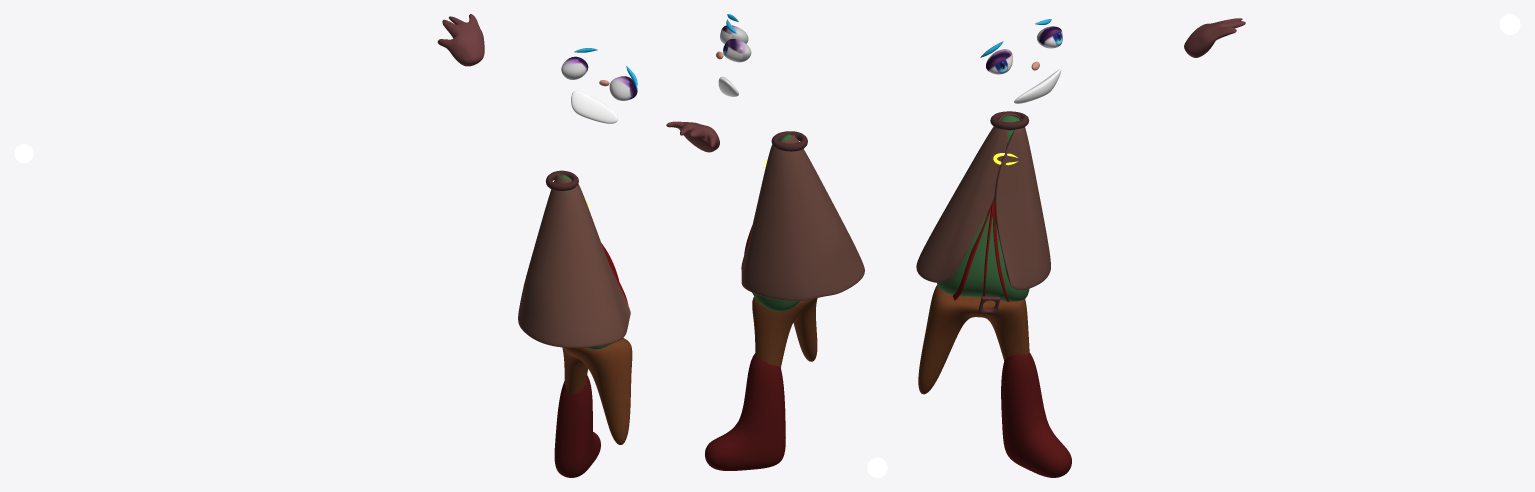
File: constellation.glb
The picture shows the model from 3 angles, left to right: view 1: azimuth 30°, elevation 25°; view 2: azimuth 150°, elevation 25°; view 3: azimuth 270°, elevation 25°; orthographic projection. The views are drawn at different scales.
Parts seen in each view (by area): view 1: Object_31, Object_16, Object_20, Object_11, Object_37, Object_22; view 2: Object_31, Object_20, Object_16, Object_11, Object_37, Object_25, Object_4, Object_15, Object_22; view 3: Object_31, Object_20, Object_16, Object_4, Object_11, Object_43, Object_37.
Part boxes in pixels (box(x1,y1,x2,y2)): Object_31: box(518, 174, 630, 347); Object_16: box(562, 338, 632, 444); Object_20: box(554, 375, 600, 477); Object_11: box(437, 14, 484, 66); Object_37: box(561, 56, 637, 100); Object_22: box(571, 90, 617, 123); Object_31: box(741, 133, 864, 301); Object_20: box(705, 353, 785, 470); Object_16: box(752, 296, 817, 367); Object_11: box(666, 121, 719, 152); Object_37: box(720, 25, 751, 62); Object_25: box(771, 131, 807, 151); Object_4: box(752, 134, 799, 311); Object_15: box(867, 457, 887, 477); Object_22: box(718, 76, 738, 96); Object_31: box(916, 113, 1050, 290); Object_20: box(1001, 353, 1071, 477); Object_16: box(918, 285, 1029, 394); Object_4: box(937, 115, 1029, 301); Object_11: box(1184, 18, 1245, 57); Object_43: box(953, 198, 1008, 301); Object_37: box(986, 26, 1062, 74).
Size of the model in its own units: 3.53 by 3.63 by 4.35.
14 materials, 2 textured.
